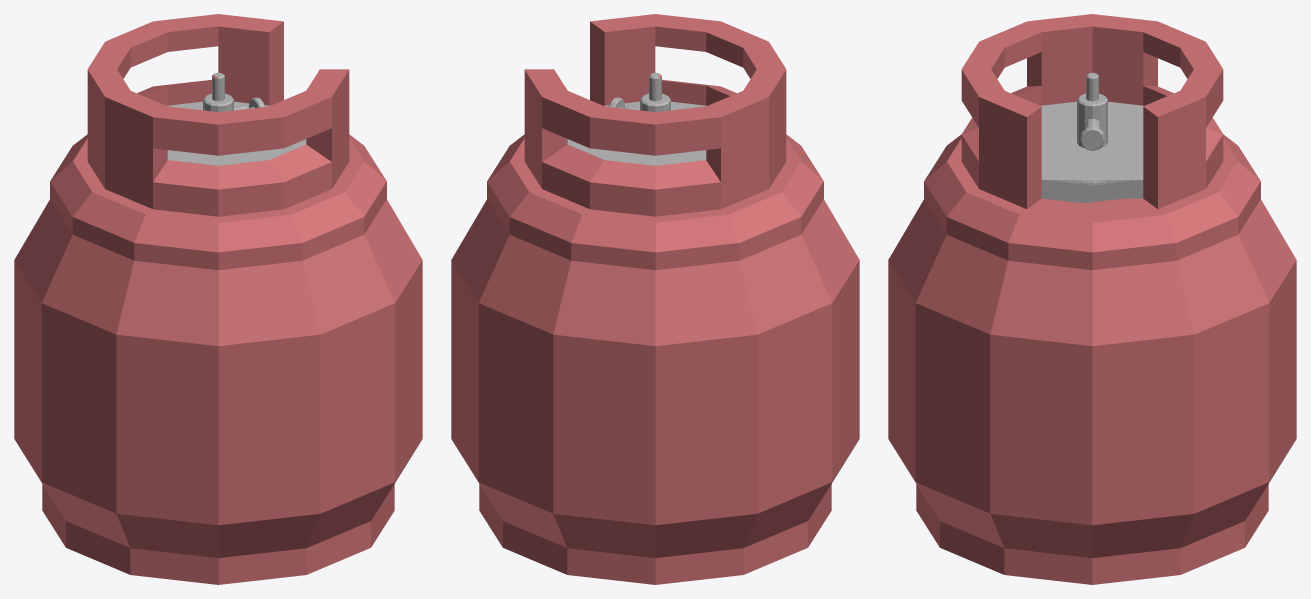
Rendered from Gas Tank A.fbx.
3 views of the same model, side by side, from view 1: azimuth 30°, elevation 25°; view 2: azimuth 150°, elevation 25°; view 3: azimuth 270°, elevation 25° (orthographic).
Parts seen in each view (by area): view 1: Gas Tank A; view 2: Gas Tank A; view 3: Gas Tank A.
Boxes of the visible parts, <box> form: Gas Tank A: <box>14,14,422,584</box>; Gas Tank A: <box>451,14,859,584</box>; Gas Tank A: <box>888,14,1296,584</box>.
Bounding box in the file's own units: 53.93 × 64.3 × 53.93.
